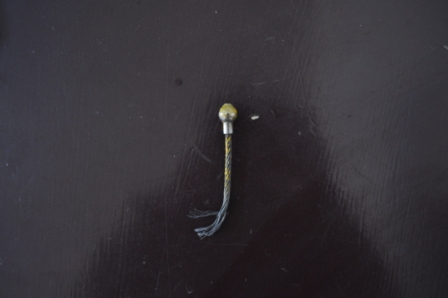METAL WIRE: (198, 100, 236, 238)
